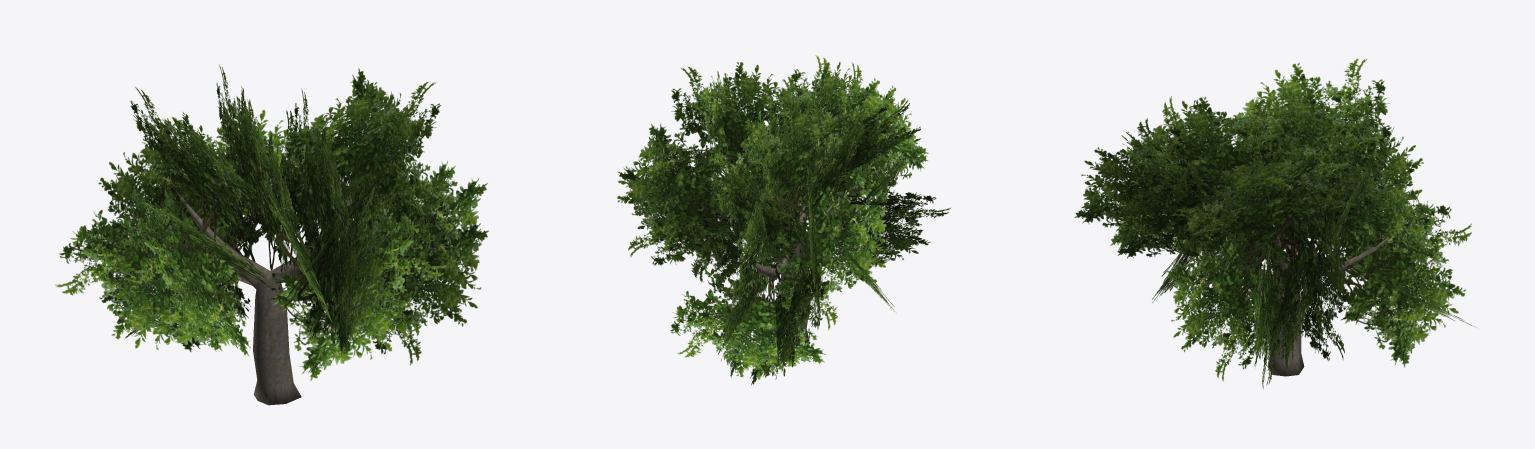
Rendered from arvore2.glb.
The picture shows the model from 3 angles, left to right: view 1: azimuth 30°, elevation 25°; view 2: azimuth 150°, elevation 25°; view 3: azimuth 270°, elevation 25°; orthographic projection. The views are drawn at different scales.
Visible parts, largest first — view 1: Plane.023, Plane.020, Plane.022, Plane.011, Plane.009, Plane.013, Plane.021, Cube.008, Plane.027, Plane.024, Plane.018, Plane.016 (+11 smaller); view 2: Plane.012, Plane.025, Plane.007, Plane.009, Plane.008, Plane.019, Plane.003, Plane.006, Plane.022, Plane.016, Plane.015, Plane.017 (+13 smaller); view 3: Plane.005, Plane.013, Plane.011, Plane.016, Plane.008, Plane.018, Plane.012, Plane.027, Plane.004, Plane.021, Plane.028, Plane.014 (+10 smaller).
Part boxes in pixels (x1,y1,x2,y2): Plane.023: (55, 189, 234, 350); Plane.020: (269, 198, 448, 381); Plane.022: (130, 190, 250, 356); Plane.011: (358, 200, 488, 365); Plane.009: (283, 82, 441, 204); Plane.013: (330, 68, 450, 247); Plane.021: (130, 87, 257, 235); Cube.008: (175, 190, 352, 405); Plane.027: (297, 165, 363, 352); Plane.024: (83, 130, 223, 298); Plane.018: (300, 169, 397, 355); Plane.016: (292, 88, 350, 251); Plane.012: (617, 123, 733, 265); Plane.025: (755, 182, 890, 330); Plane.007: (670, 268, 825, 379); Plane.009: (671, 62, 814, 175); Plane.008: (740, 99, 848, 219); Plane.019: (782, 55, 928, 197); Plane.003: (696, 160, 806, 268); Plane.006: (750, 247, 825, 385); Plane.022: (808, 190, 950, 271); Plane.016: (768, 62, 876, 184); Plane.015: (617, 166, 744, 282); Plane.017: (817, 100, 920, 197); Plane.005: (1324, 200, 1471, 367); Plane.013: (1170, 152, 1326, 266); Plane.011: (1166, 232, 1284, 380); Plane.016: (1127, 97, 1295, 227); Plane.008: (1224, 88, 1392, 206); Plane.018: (1108, 158, 1235, 258); Plane.012: (1274, 202, 1352, 361); Plane.027: (1074, 118, 1222, 239); Plane.004: (1301, 136, 1434, 281); Plane.021: (1220, 58, 1389, 198); Plane.028: (1204, 153, 1373, 256); Plane.014: (1182, 192, 1301, 340).
Bounding box in the file's own units: 30.3 × 24.9 × 32.21.
Materials: 2 (2 with a texture image).
